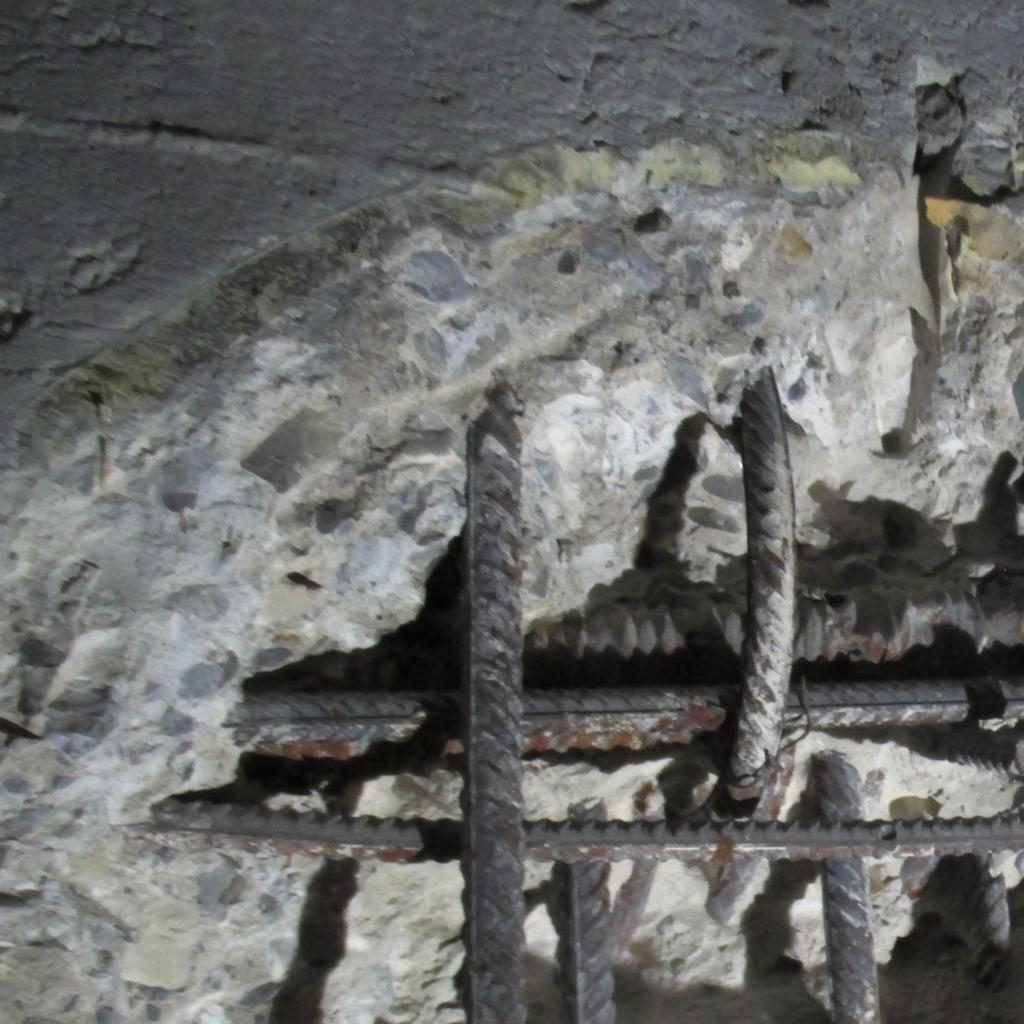exposed_rebar: (154, 370, 1024, 1024)
spalling: (0, 136, 1024, 1024)
